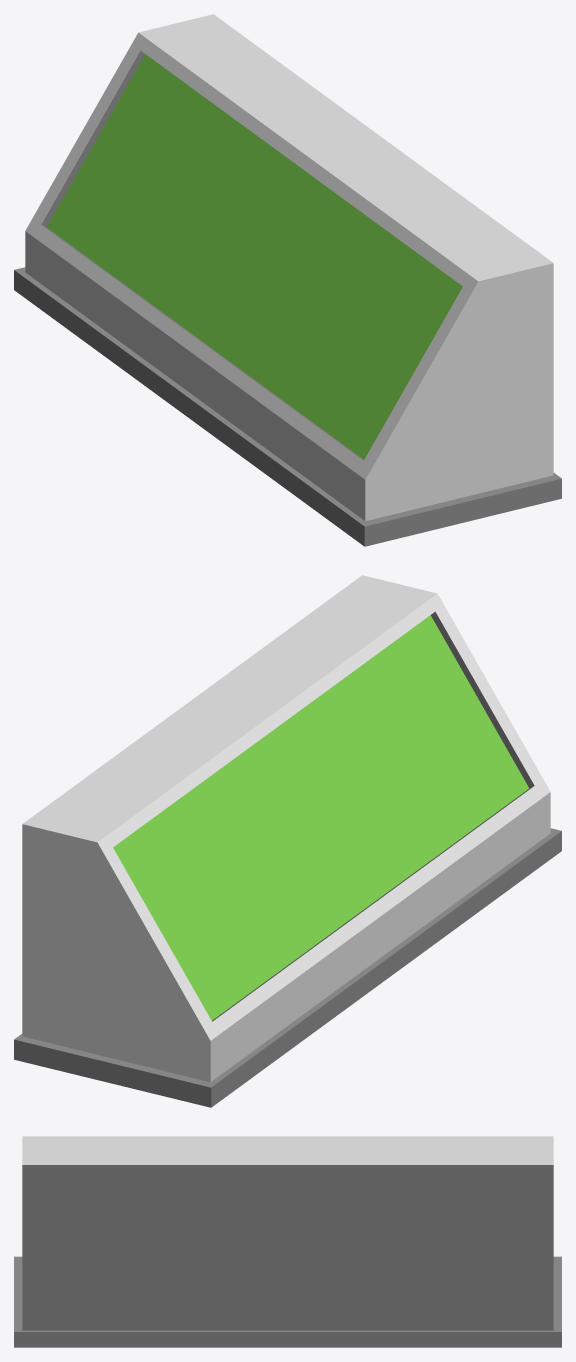
Rendered from Screen.dae.
The picture shows the model from 3 angles, top to bottom: view 1: azimuth 30°, elevation 25°; view 2: azimuth 150°, elevation 25°; view 3: azimuth 270°, elevation 25°; orthographic projection. The views are drawn at different scales.
Parts seen in each view (by area): view 1: Cube.020; view 2: Cube.020; view 3: Cube.020.
Part boxes in pixels (x1,y1,x2,y2): Cube.020: (14, 14, 561, 546); Cube.020: (14, 575, 561, 1107); Cube.020: (14, 1136, 561, 1347).
Size of the model in its own units: 3.65 by 11.24 by 4.11.
